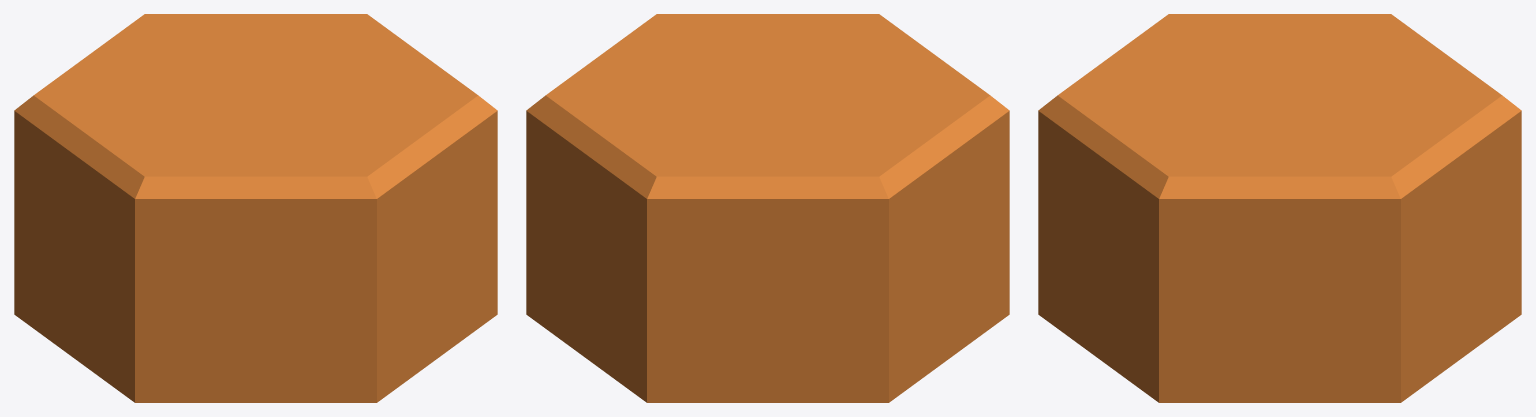
File: basic_hex.obj
3 views of the same model, side by side, from view 1: azimuth 30°, elevation 25°; view 2: azimuth 150°, elevation 25°; view 3: azimuth 270°, elevation 25° (orthographic).
Visible parts, largest first — view 1: Hex_Cylinder; view 2: Hex_Cylinder; view 3: Hex_Cylinder.
Boxes of the visible parts, x1,y1,x2,y2 form: Hex_Cylinder: (14, 14, 497, 402); Hex_Cylinder: (526, 14, 1009, 402); Hex_Cylinder: (1038, 14, 1521, 402).
Bounding box in the file's own units: 1.73 × 1 × 2.
Materials: 1 (1 with a texture image).
